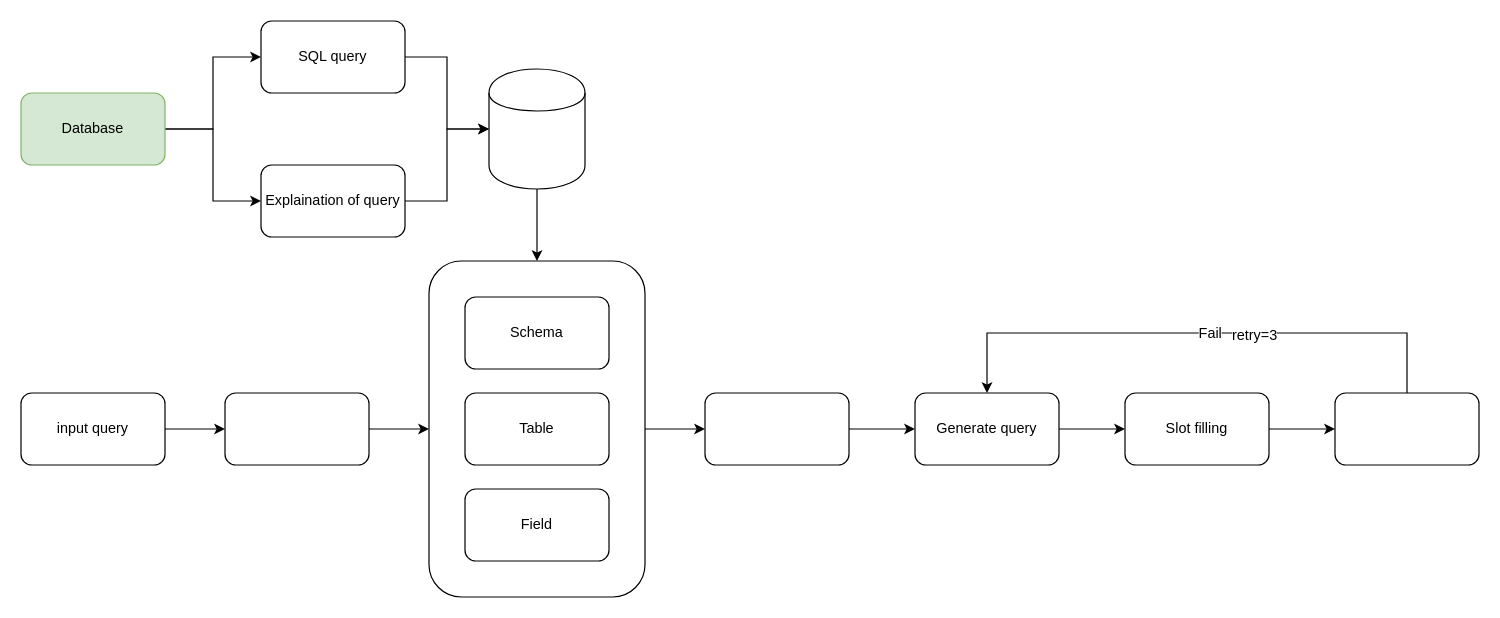
The diagram is 1500 pixels wide and 618 high, and some of its shapes have lost their labels. Each missing label, with the box of its shape:
Exec query: (1334, 392, 1479, 465)
Masking keyword: (224, 392, 369, 465)
PGVector: (488, 68, 585, 189)
Related query: (704, 392, 849, 465)
